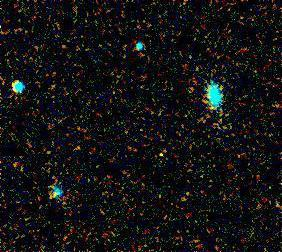star: (140, 141, 170, 171)
